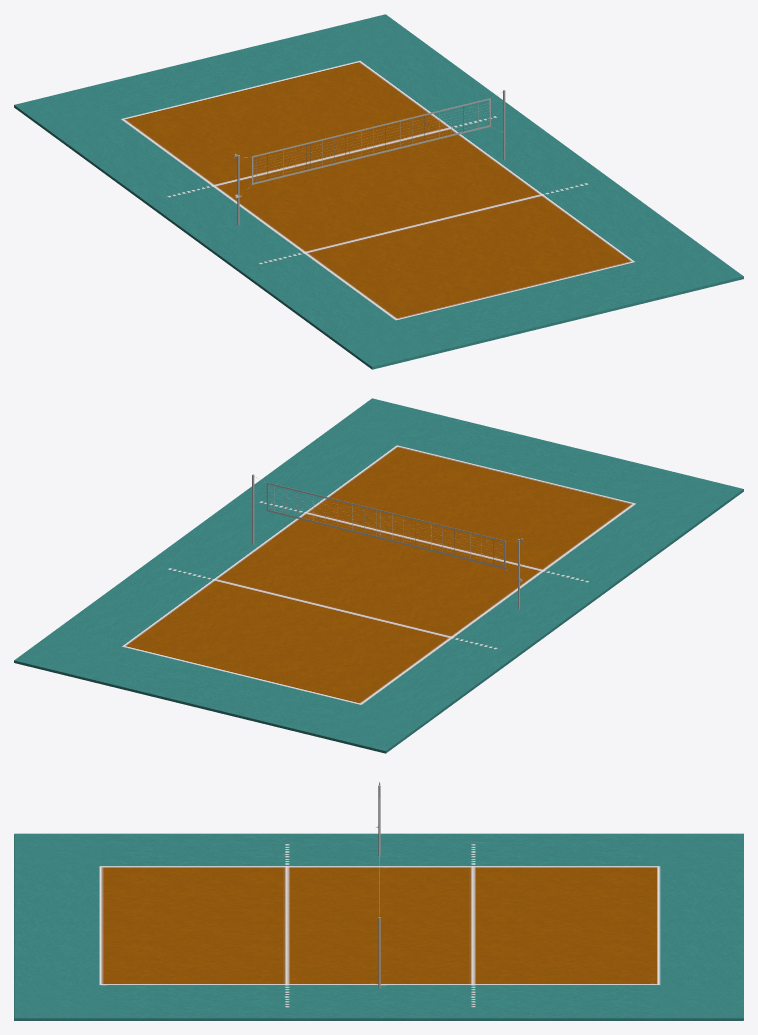
File: sanbongchuyen.fbx
3 renders of one model, top to bottom at view 1: azimuth 30°, elevation 25°; view 2: azimuth 150°, elevation 25°; view 3: azimuth 270°, elevation 25°, orthographic.
Parts seen in each view (by area): view 1: Volleyball_NetShape; view 2: Volleyball_NetShape; view 3: Volleyball_NetShape.
Part boxes in pixels (x1=…): Volleyball_NetShape: x1=14, y1=14, x2=743, y2=369; Volleyball_NetShape: x1=14, y1=398, x2=743, y2=753; Volleyball_NetShape: x1=14, y1=782, x2=743, y2=1020.
Bounding box in the file's own units: 1401 × 266 × 2339.
Materials: 3 (1 with a texture image).
